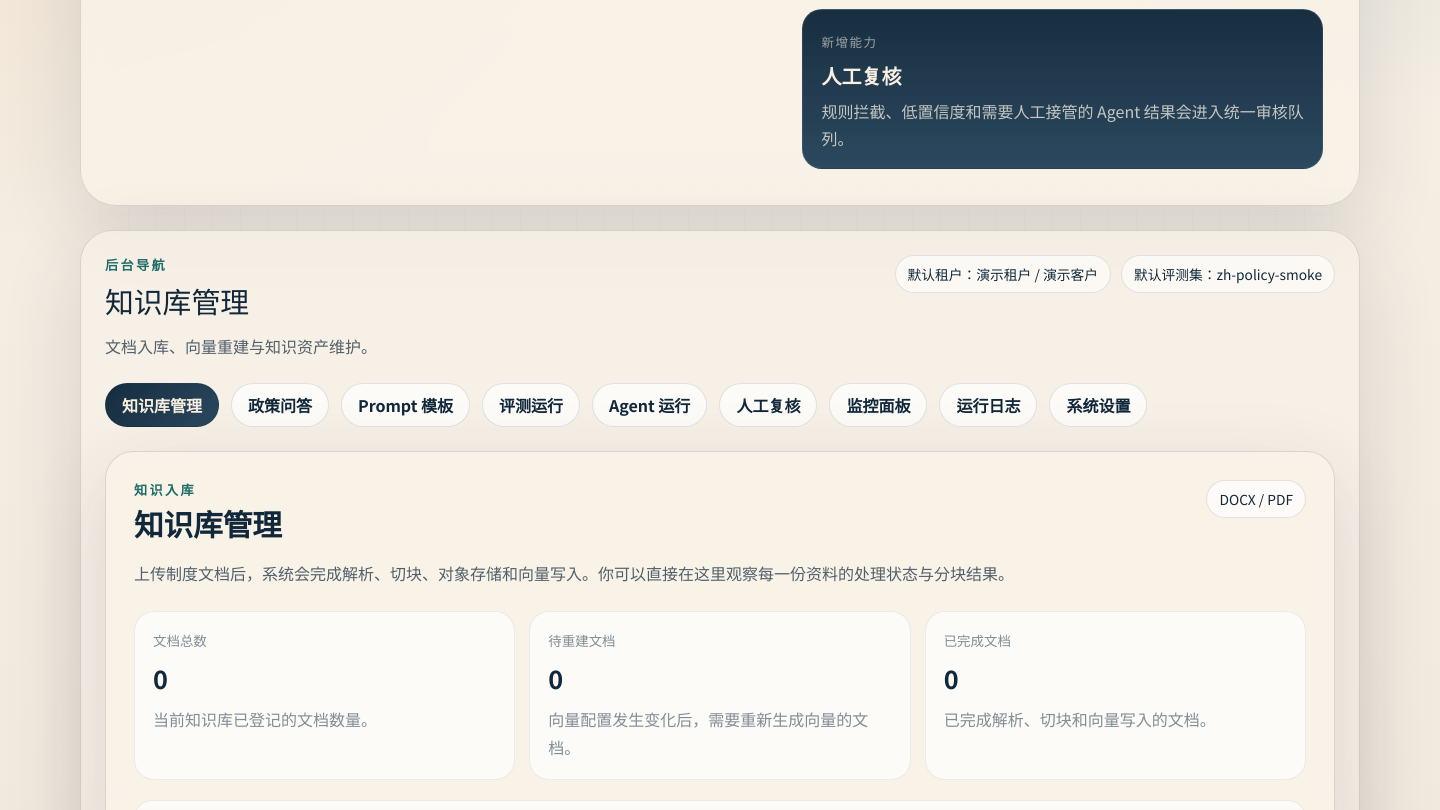
renders tabbed admin shell and switches between workspaces
(page scrolled)
Expected: the tab "知识库管理" is shown, left=105, top=383, right=219, bottom=427
Expected: the tab "运行日志" is shown, left=939, top=383, right=1037, bottom=427
Click the tab "监控面板".
click(878, 405)  # box left=829, top=383, right=927, bottom=427
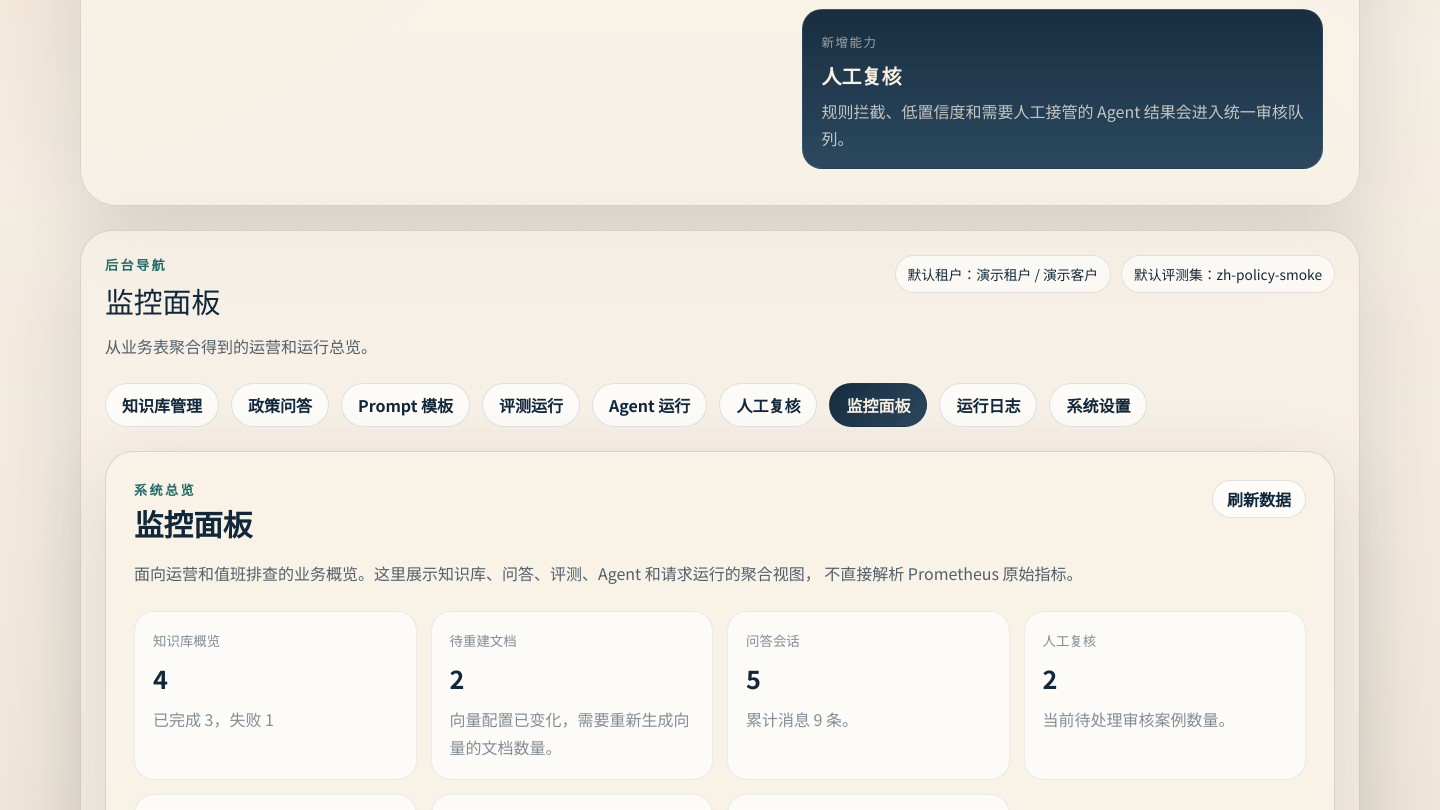
Result: the heading "监控面板" is shown at left=134, top=511, right=252, bottom=543
